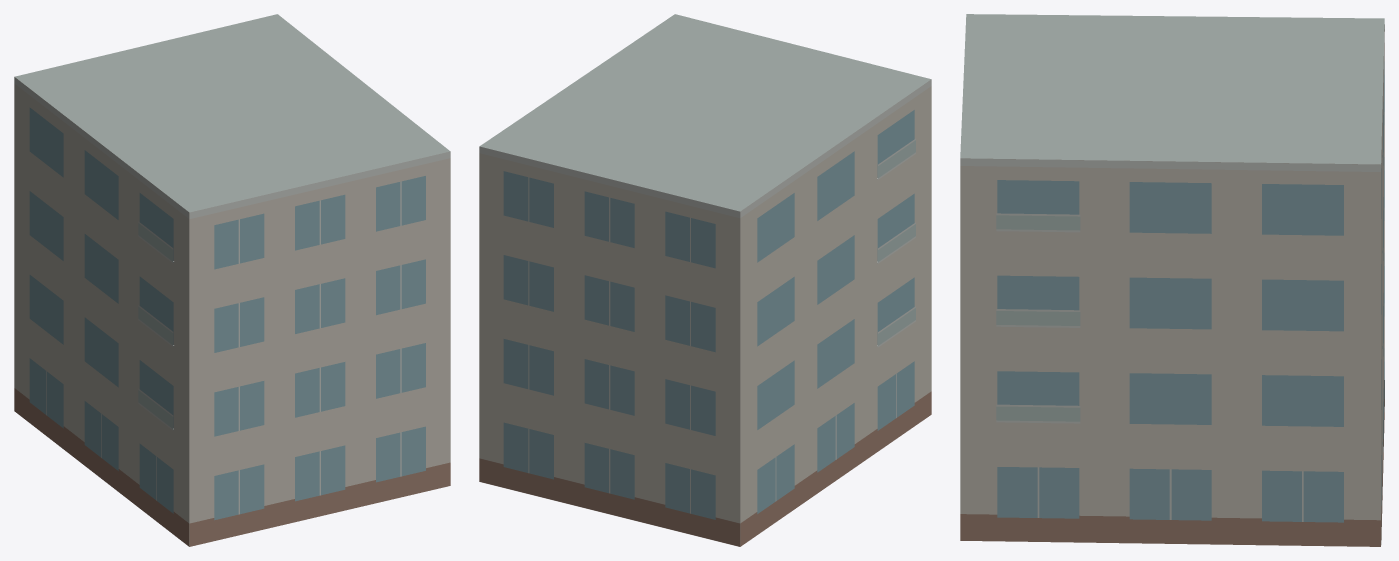
Rendered from survey-upis-32743906.glb.
3 views of the same model, side by side, from view 1: azimuth 30°, elevation 25°; view 2: azimuth 150°, elevation 25°; view 3: azimuth 270°, elevation 25° (orthographic). The views are drawn at different scales.
Parts seen in each view (by area): view 1: survey-upis-32743906.tmp; view 2: survey-upis-32743906.tmp; view 3: survey-upis-32743906.tmp.
Part boxes in pixels (bbox=[...]): survey-upis-32743906.tmp: bbox=[14, 14, 450, 546]; survey-upis-32743906.tmp: bbox=[479, 14, 931, 546]; survey-upis-32743906.tmp: bbox=[960, 14, 1384, 546].
Bounding box in the file's own units: 10.31 × 12.2 × 12.29.
